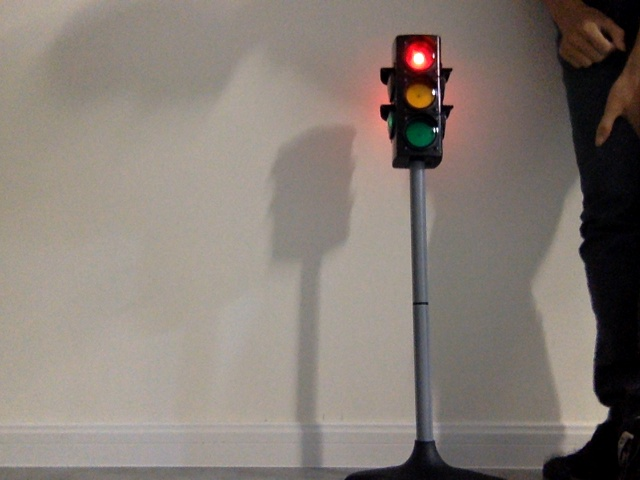red: (396, 40, 438, 152)
